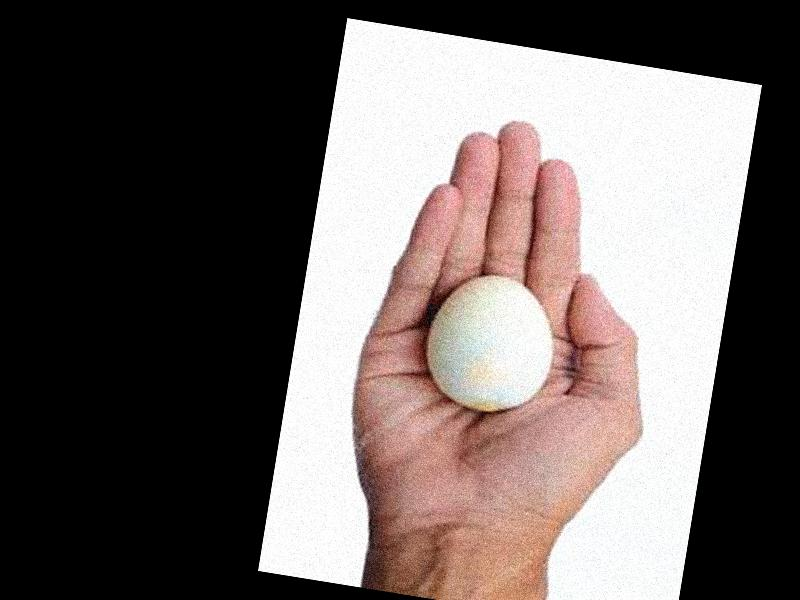Eggs: (420, 264, 561, 419)
